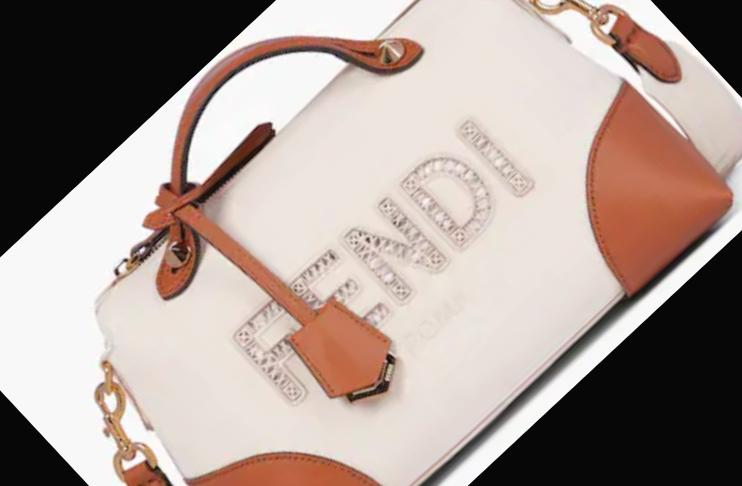FENDI: (228, 110, 538, 410)
